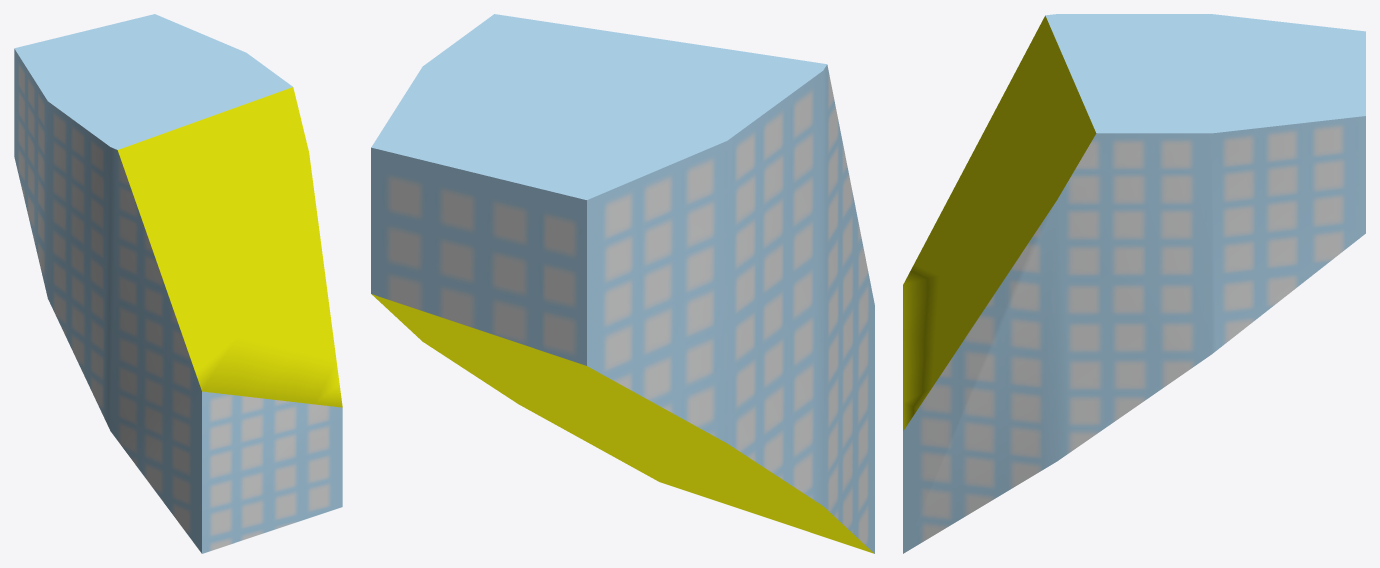
File: mShard1.fbx
The picture shows the model from 3 angles, left to right: view 1: azimuth 30°, elevation 25°; view 2: azimuth 150°, elevation 25°; view 3: azimuth 270°, elevation 25°; orthographic projection. The views are drawn at different scales.
Visible parts, largest first — view 1: shard31; view 2: shard31; view 3: shard31.
Boxes of the visible parts, x1,y1,x2,y2 form: shard31: [14, 14, 342, 553]; shard31: [371, 14, 874, 553]; shard31: [903, 14, 1365, 553].
Bounding box in the file's own units: 0.1357 × 0.2403 × 0.2222.
2 materials, 1 textured.
